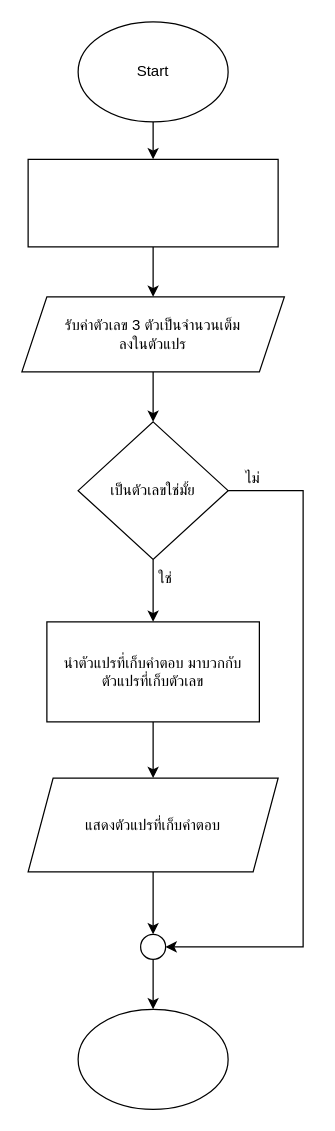
The diagram is 335 pixels wide and 1131 high, and some of its shapes have lost their labels. The centre of each missing label's shape, as x and y in pixels:
"กำหนดตัวแปร3ตัว ใช้ในการเก็บจำนวน เก็บตัวเลขที่รับมา และเก็บคำตอบ" goes at (x=152, y=202).
"จบการทำงาน" goes at (x=152, y=1058).
